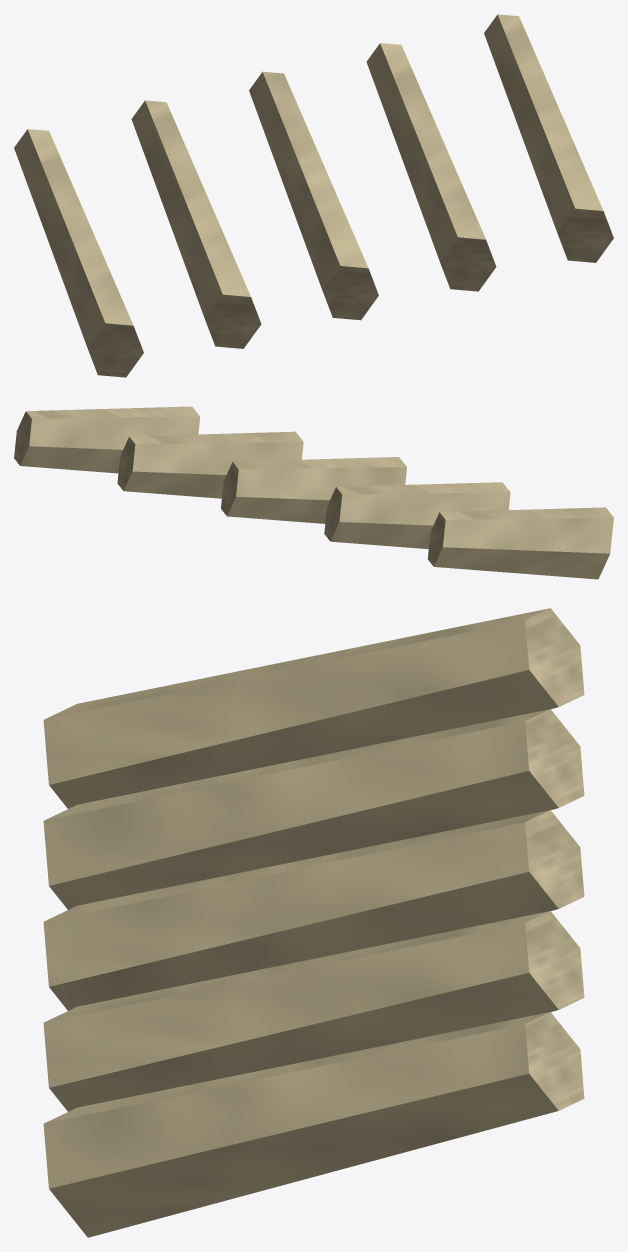
File: bones_small_set.fbx
3 views of the same model, one above another, from view 1: azimuth 30°, elevation 25°; view 2: azimuth 150°, elevation 25°; view 3: azimuth 270°, elevation 25° (orthographic). The views are drawn at different scales.
Visible parts, largest first — view 1: bones_small_set; view 2: bones_small_set; view 3: bones_small_set.
Part boxes in pixels (x1,y1,x2,y2): bones_small_set: [14, 14, 613, 377]; bones_small_set: [14, 406, 613, 579]; bones_small_set: [43, 608, 584, 1237].
Size of the model in its own units: 113 by 28 by 54.
1 material, 1 textured.
